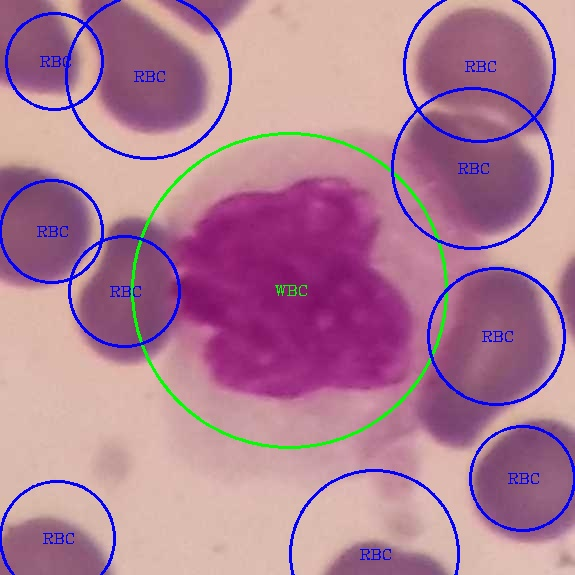RBC: (417, 266, 558, 449), (410, 2, 566, 145), (68, 212, 197, 364), (392, 106, 539, 237), (80, 1, 210, 133), (462, 410, 574, 550), (0, 160, 99, 294)
WBC: (133, 121, 491, 481)
